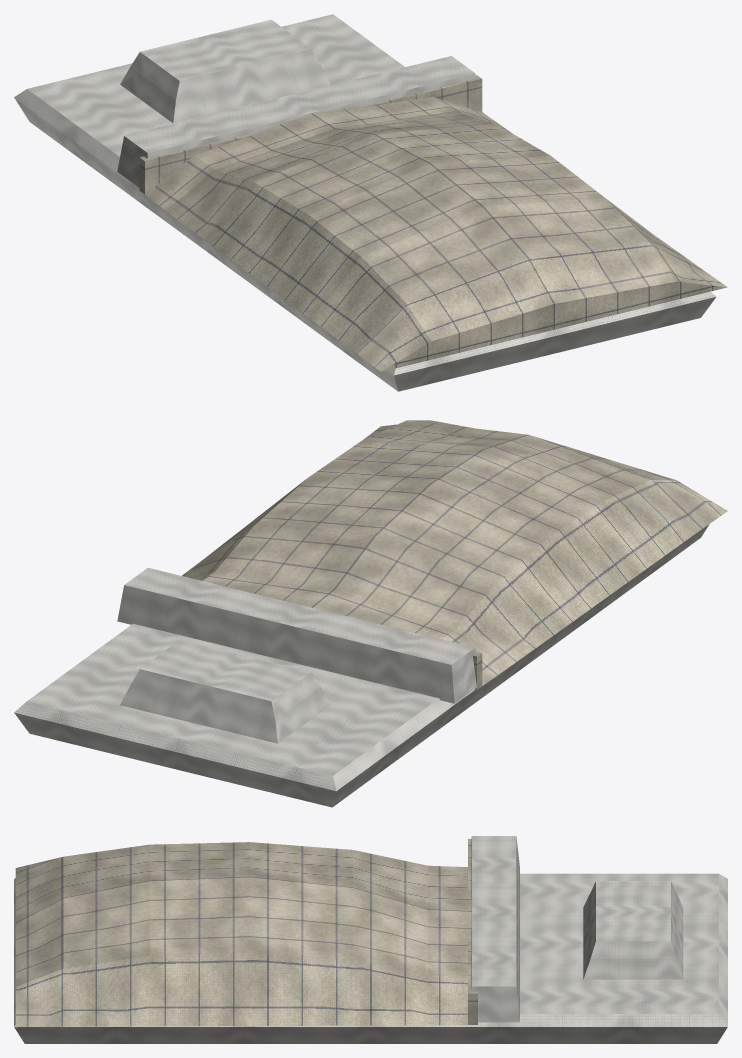
The model's file is futon.glb.
3 renders of one model, top to bottom at view 1: azimuth 30°, elevation 25°; view 2: azimuth 150°, elevation 25°; view 3: azimuth 270°, elevation 25°, orthographic. The views are drawn at different scales.
Visible parts, largest first — view 1: futon; view 2: futon; view 3: futon.
Boxes of the visible parts, <box> form: futon: <box>14,14,727,391</box>; futon: <box>14,420,727,807</box>; futon: <box>14,836,727,1043</box>.
Size of the model in its own units: 1.05 by 0.3017 by 2.
2 materials, 2 textured.
